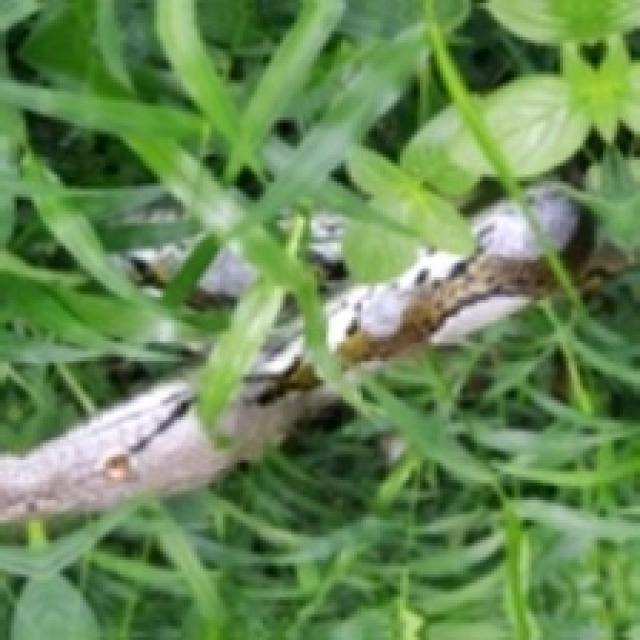reticulated python: (0, 331, 334, 520), (326, 201, 549, 362), (472, 200, 540, 259), (529, 185, 580, 250)
